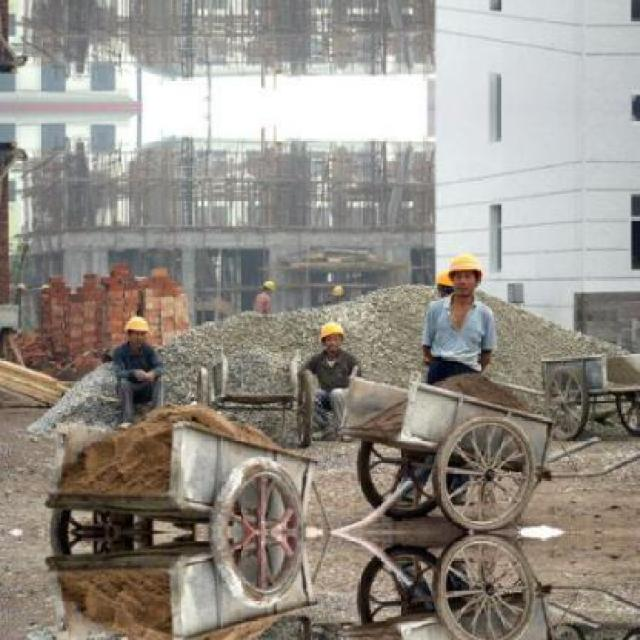helmet: (442, 248, 487, 300), (120, 310, 154, 348), (315, 319, 350, 355), (434, 265, 458, 301), (260, 277, 282, 298)
